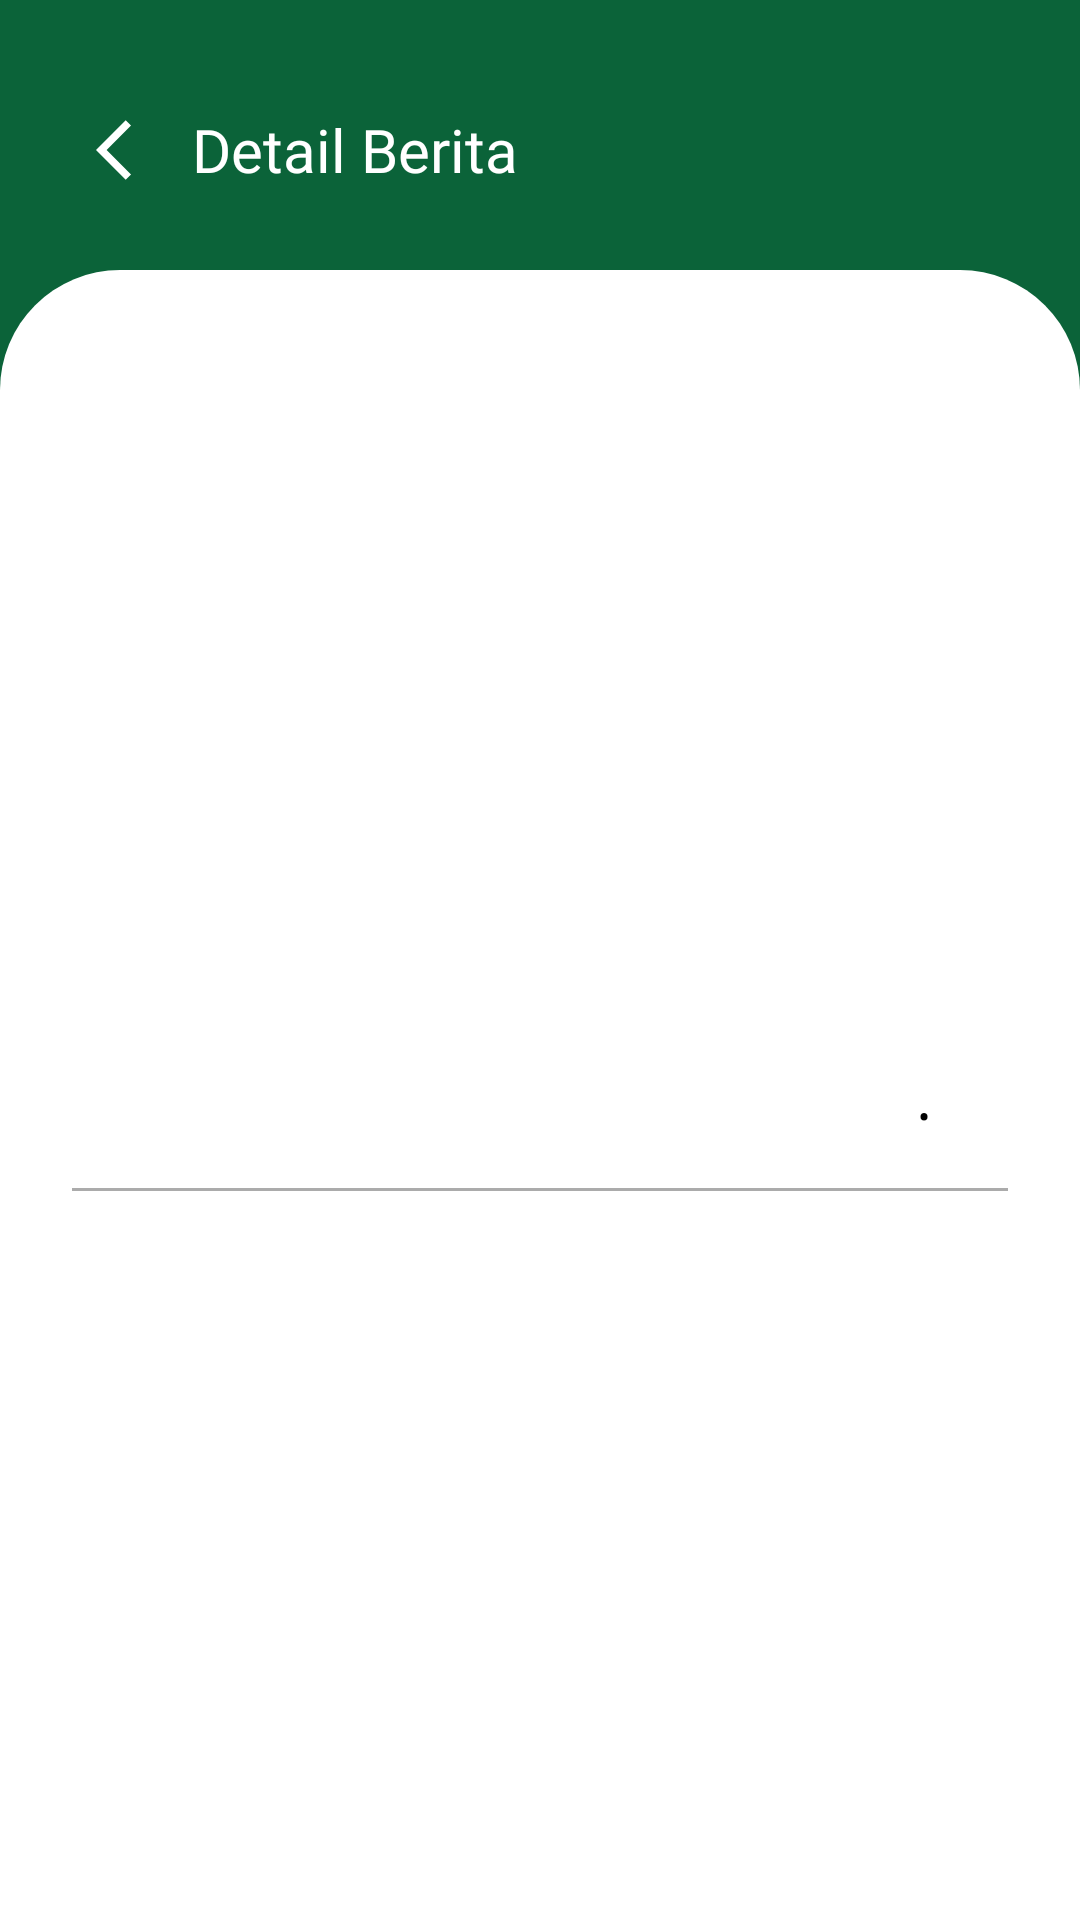

Screen size 1080x1920. Icon name, then its box in pixels as (x1, y1, x2, y2):
Kembali: (96, 120, 131, 180)
